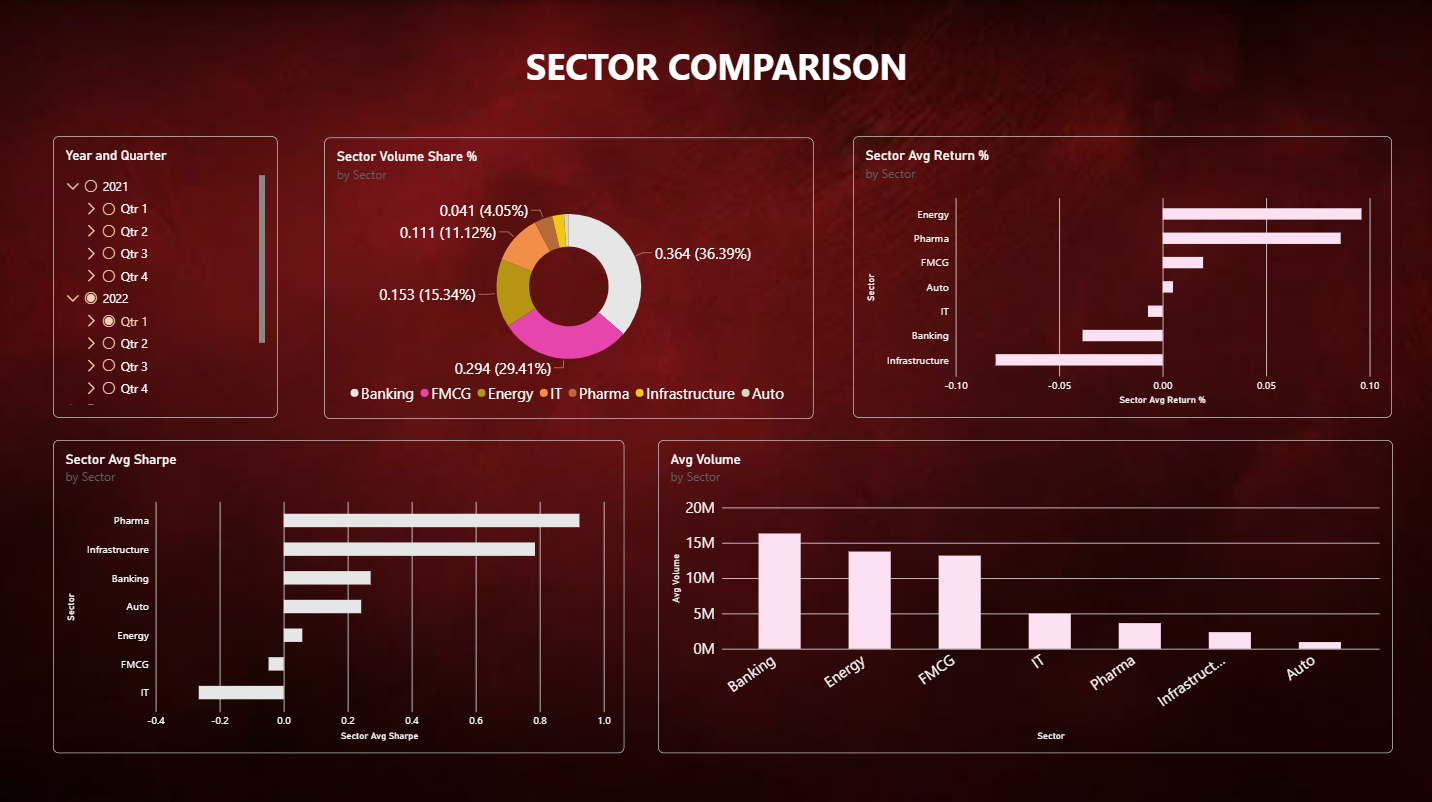

The dashboard page shown, as its layout file describes it:
{"tool":"powerbi","page":{"name":"sector comparison","canvas":[1920,1080],"ordinal":2},"visuals":[{"type":"listSlicer","fields":{"Values":["prices.Date.Variation.Date Hierarchy.Year","prices.Date.Variation.Date Hierarchy.Quarter","prices.Date.Variation.Date Hierarchy.Month","prices.Date.Variation.Date Hierarchy.Day"]},"box":[74.1,181.5,300,375.9],"z":0},{"type":"barChart","fields":{"Category":["Stocks.Sector"],"Y":["prices.Sector Avg Return %"]},"box":[1142.6,181.5,720.4,375.9],"z":1000},{"type":"columnChart","fields":{"Category":["Stocks.Sector"],"Y":["prices.Avg Volume"]},"box":[881.5,587,981.5,418.5],"z":2000},{"type":"donutChart","fields":{"Category":["Stocks.Sector"],"Y":["prices.Sector Volume Share %"]},"box":[435.2,183.3,653.7,375.9],"z":3000},{"type":"clusteredBarChart","fields":{"Category":["Stocks.Sector"],"Y":["prices.Sector Avg Sharpe"]},"box":[74.1,587,763,418.5],"z":4000},{"type":"textbox","box":[0,0,1920.4,150],"z":5000}]}

Visuals, with their boxes in screenshot pixels (x1, y1, x2, y2), scaled from the page's 1920x1080 canvas onto the 1432x802 screenshot:
listSlicer - prices.Date.Variation.Date Hierarchy.Year x prices.Date.Variation.Date Hierarchy.Quarter: rect(55, 135, 279, 414)
barChart - Stocks.Sector x prices.Sector Avg Return %: rect(852, 135, 1389, 414)
columnChart - Stocks.Sector x prices.Avg Volume: rect(657, 436, 1389, 747)
donutChart - Stocks.Sector x prices.Sector Volume Share %: rect(325, 136, 812, 415)
clusteredBarChart - Stocks.Sector x prices.Sector Avg Sharpe: rect(55, 436, 624, 747)
textbox: rect(0, 0, 1431, 111)
